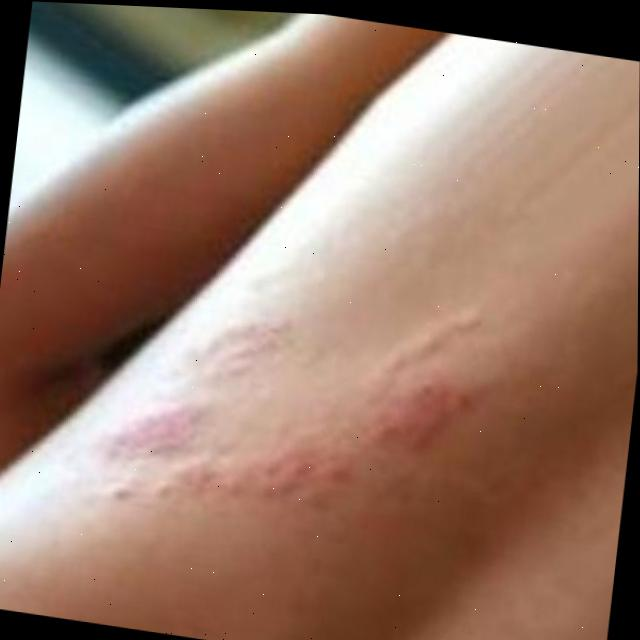Shingles: (103, 288, 480, 539)
